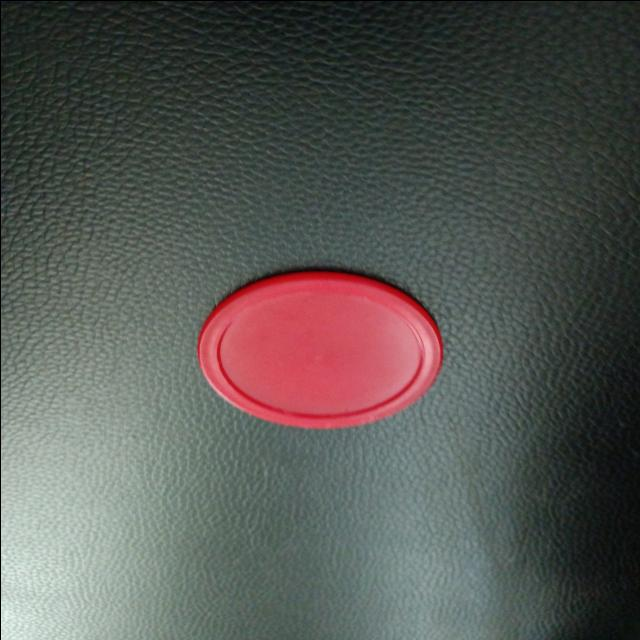chip: (192, 269, 446, 431)
